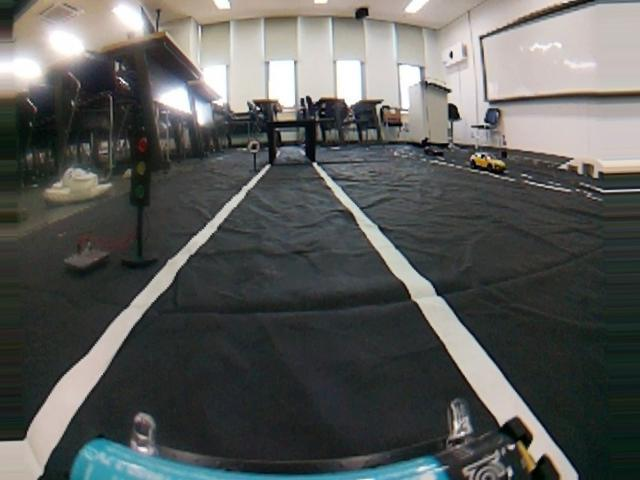straight: (1, 244, 640, 479)
yellow_light: (121, 114, 160, 211)
